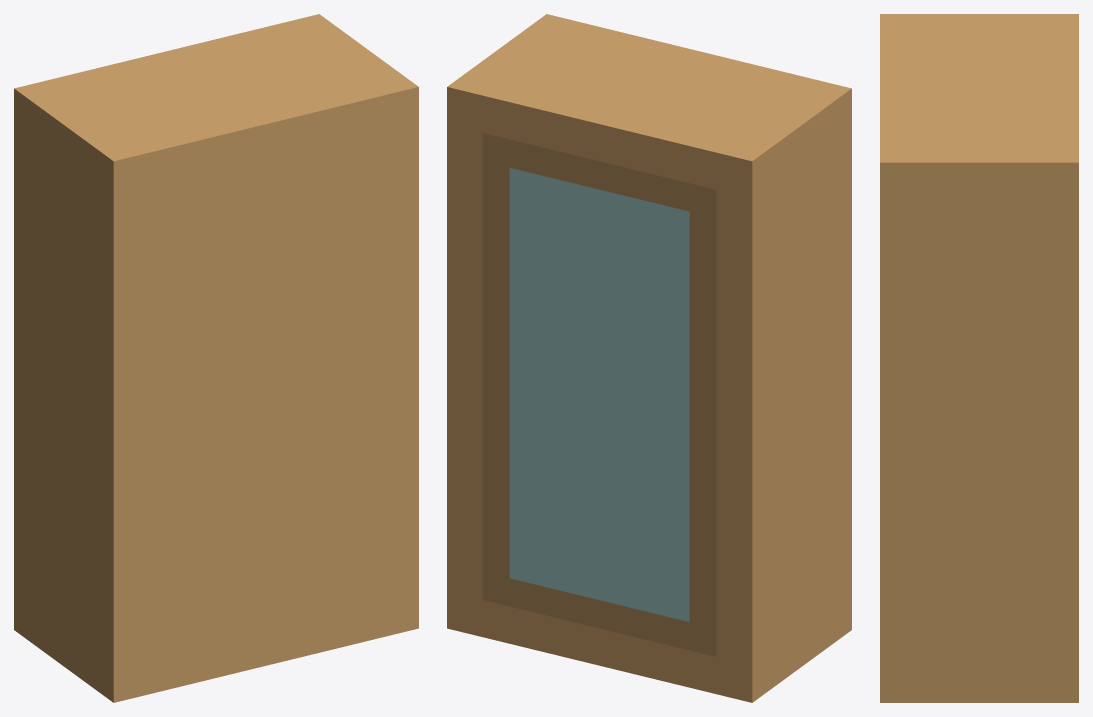
The model's file is bathroomCabinet.glb.
3 renders of one model, left to right at view 1: azimuth 30°, elevation 25°; view 2: azimuth 150°, elevation 25°; view 3: azimuth 270°, elevation 25°, orthographic.
Size of the model in its own units: 2.3 by 3.9 by 1.3.
